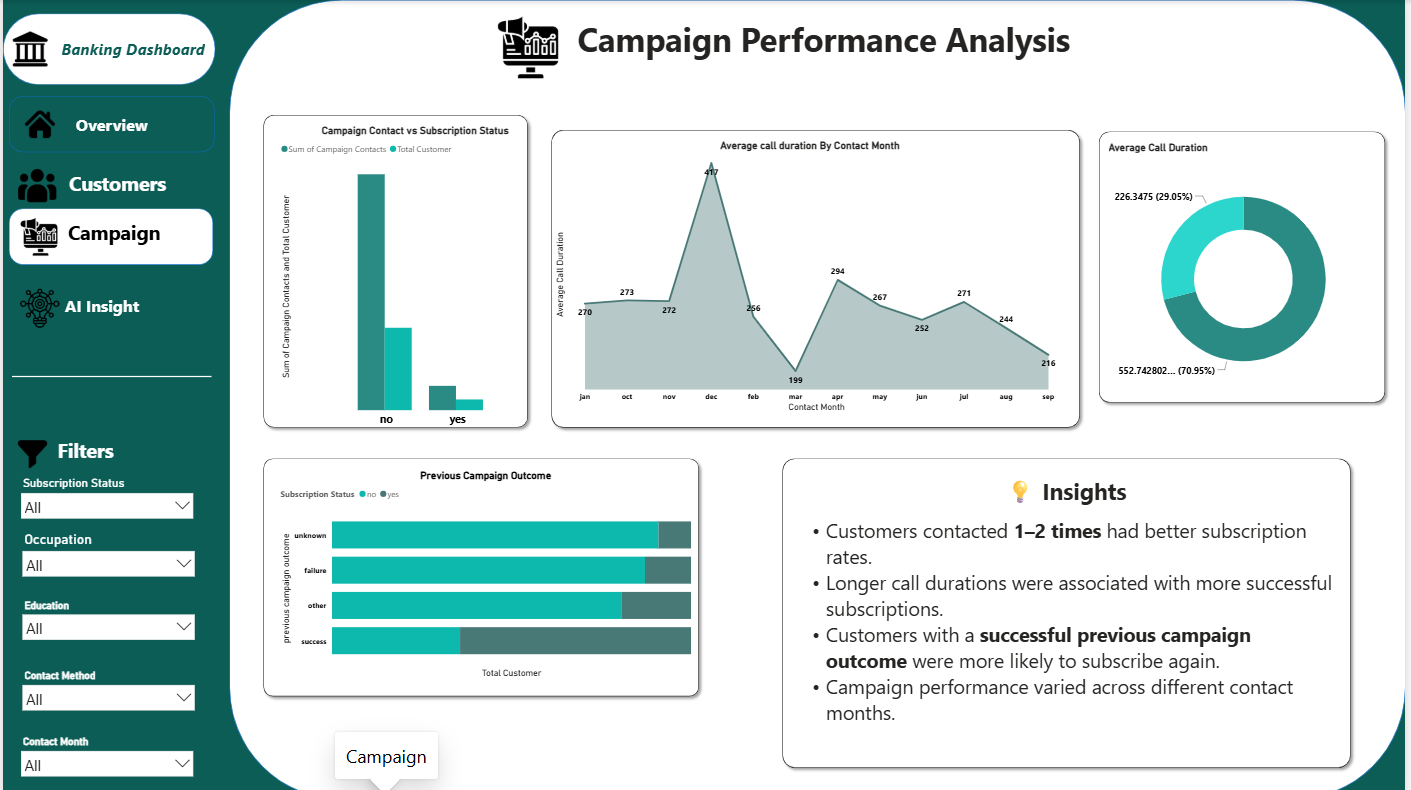

The page's visual inventory and layout, read from the dashboard file:
{"tool":"powerbi","page":{"name":"Campaign","canvas":[2300,1310],"ordinal":2},"visuals":[{"type":"shape","box":[10.9,342.8,334.7,92.5],"z":0},{"type":"shape","box":[371.4,0,1928.1,1310.8],"z":1000},{"type":"shape","box":[0,21.8,348.3,117],"z":2000},{"type":"image","box":[0,51.7,89.8,57.1],"z":3000},{"type":"shape","box":[10.9,157.8,337.4,92.5],"z":4000},{"type":"image","box":[32.7,179.6,57.1,49],"z":5000},{"type":"textbox","box":[19,272.1,318.3,81.6],"z":6000},{"type":"image","box":[21.8,272.1,68,62.6],"z":7000},{"type":"textbox","box":[16.3,353.7,321.1,89.8],"z":10000},{"type":"image","box":[19,353.7,78.9,68],"z":11000},{"type":"textbox","box":[9.8,477.1,305,91],"z":14000},{"type":"image","box":[27.1,455,66.4,100.8],"z":15000},{"type":"actionButton","box":[98,283,185,51.7],"z":16000},{"type":"actionButton","box":[87.1,353.7,185,51.7],"z":18000},{"type":"actionButton","box":[87.1,179.6,185,51.7],"z":19000},{"type":"actionButton","box":[59,477.1,245.9,78.7],"z":20000},{"type":"image","box":[19,710.1,57.1,65.3],"z":22000},{"type":"textbox","box":[46.3,710.1,176.9,54.4],"z":23000},{"type":"shape","box":[14.8,555.8,327.1,123],"z":24000},{"type":"slicer","fields":{"Values":["test.Subscription Status"]},"box":[19,775.4,302,89.8],"z":25000},{"type":"slicer","fields":{"Values":["test.Occupation"]},"box":[21.8,865.2,302,89.8],"z":26000},{"type":"slicer","fields":{"Values":["test.Contact Method"]},"box":[21.8,1091.1,302,89.8],"z":27000},{"type":"slicer","fields":{"Values":["test.Education"]},"box":[21.8,976.8,302,89.8],"z":28000},{"type":"slicer","fields":{"Values":["test.Contact Month"]},"box":[19,1199.9,302,89.8],"z":29000},{"type":"shape","box":[419,179.6,451.7,530.6],"z":30000},{"type":"shape","box":[419,742.8,731.9,408.1],"z":31000},{"type":"shape","box":[889.7,204.1,884.3,506.1],"z":32000},{"type":"shape","box":[1787.6,206.8,487,462.5],"z":33000},{"type":"shape","box":[1267.9,742.8,949.6,525.1],"z":34000},{"type":"textbox","box":[936,21.8,1006.7,111.6],"z":35000},{"type":"image","box":[783.6,21.8,152.4,111.6],"z":36000},{"type":"clusteredColumnChart","title":"Campaign Contact vs Subscription Status","fields":{"Category":["test.Subscription Status"],"Y":["Sum(test.Campaign Contacts)","test.Total Customer"]},"box":[448.9,204.1,451.7,506.1],"z":37000},{"type":"hundredPercentStackedBarChart","title":"Previous Campaign Outcome","fields":{"Y":["test.Total Customer"],"Series":["test.Subscription Status"],"Category":["test.previous campaign outcome"]},"box":[448.9,770,682.9,345.5],"z":38000},{"type":"lineChart","title":"Average call duration By Contact Month","fields":{"Category":["test.Contact Month"],"Y":["test.Average Call Duration"]},"box":[900.6,228.6,846.2,451.7],"z":39000},{"type":"donutChart","title":"Average Call Duration ","fields":{"Category":["test.Subscription Status"],"Y":["test.Average Call Duration"]},"box":[1806.6,231.3,451.7,432.6],"z":40000},{"type":"textbox","box":[1295.1,775.4,892.4,470.7],"z":41000}]}

Visuals, with their boxes in screenshot pixels (x1, y1, x2, y2), scaled from the page's 2300x1310 canvas onto the 1411x790 screenshot:
shape: (7,207,212,263)
shape: (228,0,1410,789)
shape: (0,13,214,84)
image: (0,31,55,66)
shape: (7,95,214,151)
image: (20,108,55,138)
textbox: (12,164,207,213)
image: (13,164,55,202)
textbox: (10,213,207,267)
image: (12,213,60,254)
textbox: (6,288,193,343)
image: (17,274,57,335)
actionButton: (60,171,174,202)
actionButton: (53,213,167,244)
actionButton: (53,108,167,139)
actionButton: (36,288,187,335)
image: (12,428,47,468)
textbox: (28,428,137,461)
shape: (9,335,210,409)
slicer - test.Subscription Status: (12,468,197,522)
slicer - test.Occupation: (13,522,199,576)
slicer - test.Contact Method: (13,658,199,712)
slicer - test.Education: (13,589,199,643)
slicer - test.Contact Month: (12,724,197,778)
shape: (257,108,534,428)
shape: (257,448,706,694)
shape: (546,123,1088,428)
shape: (1097,125,1395,404)
shape: (778,448,1360,765)
textbox: (574,13,1192,80)
image: (481,13,574,80)
"Campaign Contact vs Subscription Status" clusteredColumnChart: (275,123,552,428)
"Previous Campaign Outcome" hundredPercentStackedBarChart: (275,464,694,673)
"Average call duration By Contact Month" lineChart: (552,138,1072,410)
"Average Call Duration " donutChart: (1108,139,1385,400)
textbox: (795,468,1342,751)
